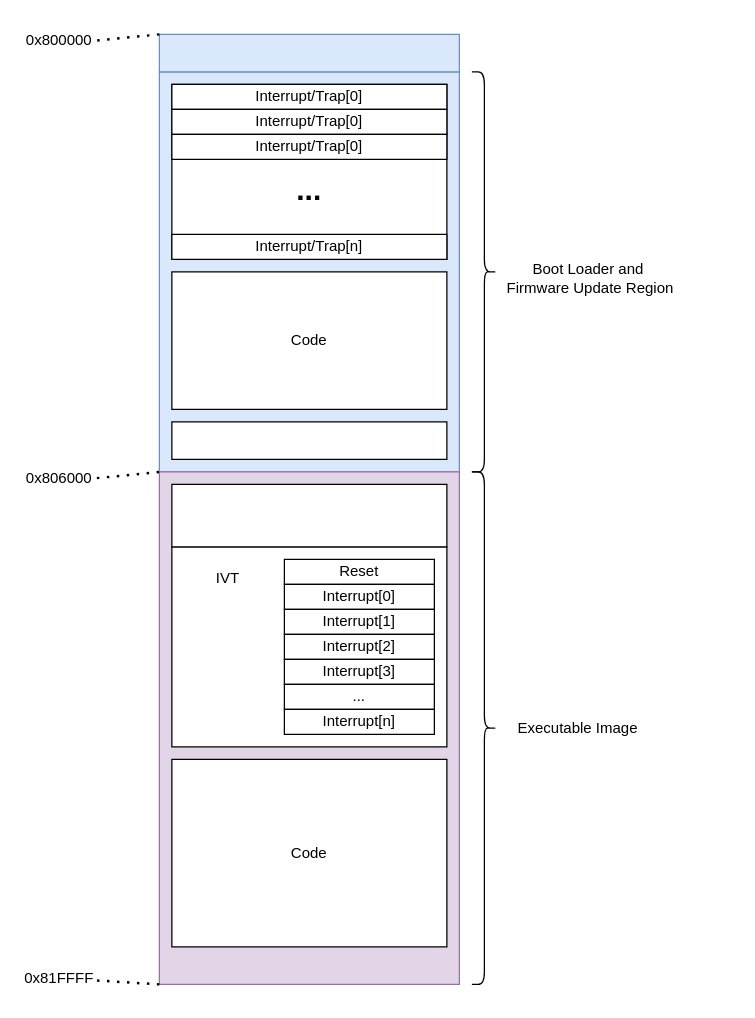
This 755x1018 diagram has some shape labels left out. Each missing label, with the centre of its shape:
Executable Header: the point at 309,515
IRT Buffer: the point at 309,440
ResetVector: the point at 308,52
